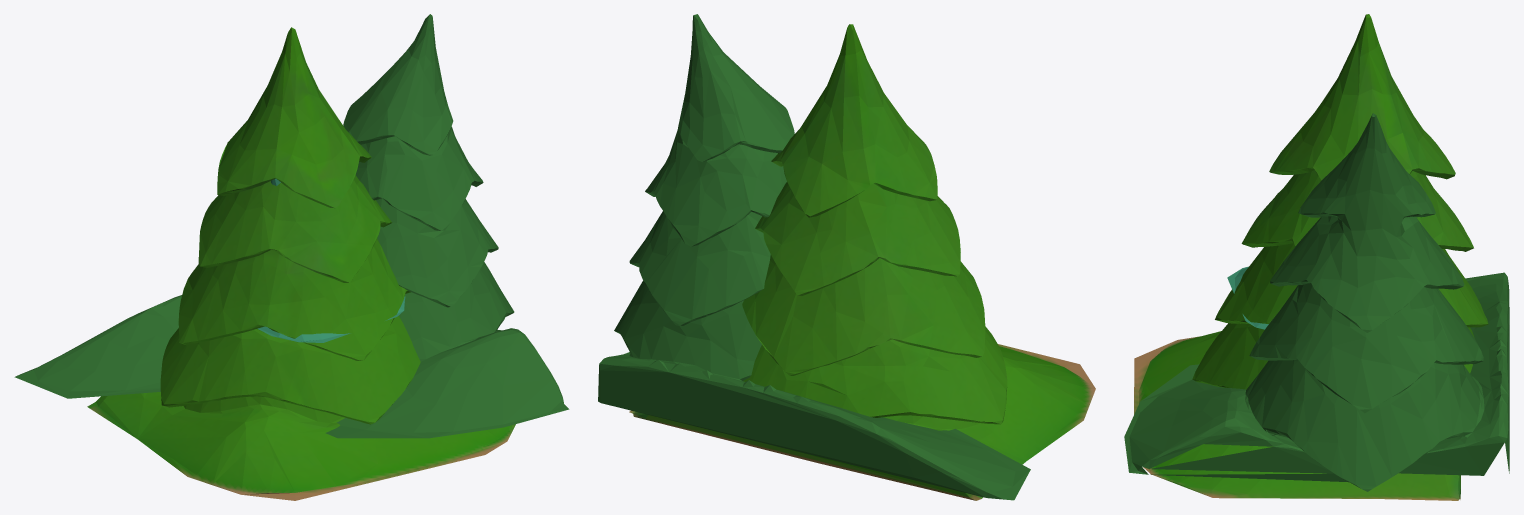
The model's file is pines.fbx.
3 views of the same model, side by side, from view 1: azimuth 30°, elevation 25°; view 2: azimuth 150°, elevation 25°; view 3: azimuth 270°, elevation 25° (orthographic). The views are drawn at different scales.
Parts seen in each view (by area): view 1: pine, pine2, pine3; view 2: pine, pine2; view 3: pine2, pine.
Part boxes in pixels (x1,y1,x2,y2): pine: (87,27,515,500); pine2: (14,14,569,438); pine3: (257,178,405,342); pine: (629,24,1095,500); pine2: (598,14,1030,500); pine2: (1124,113,1509,491); pine: (1134,14,1488,500).
Size of the model in its own units: 239 by 198 by 171.
Materials: 3 (1 with a texture image).
